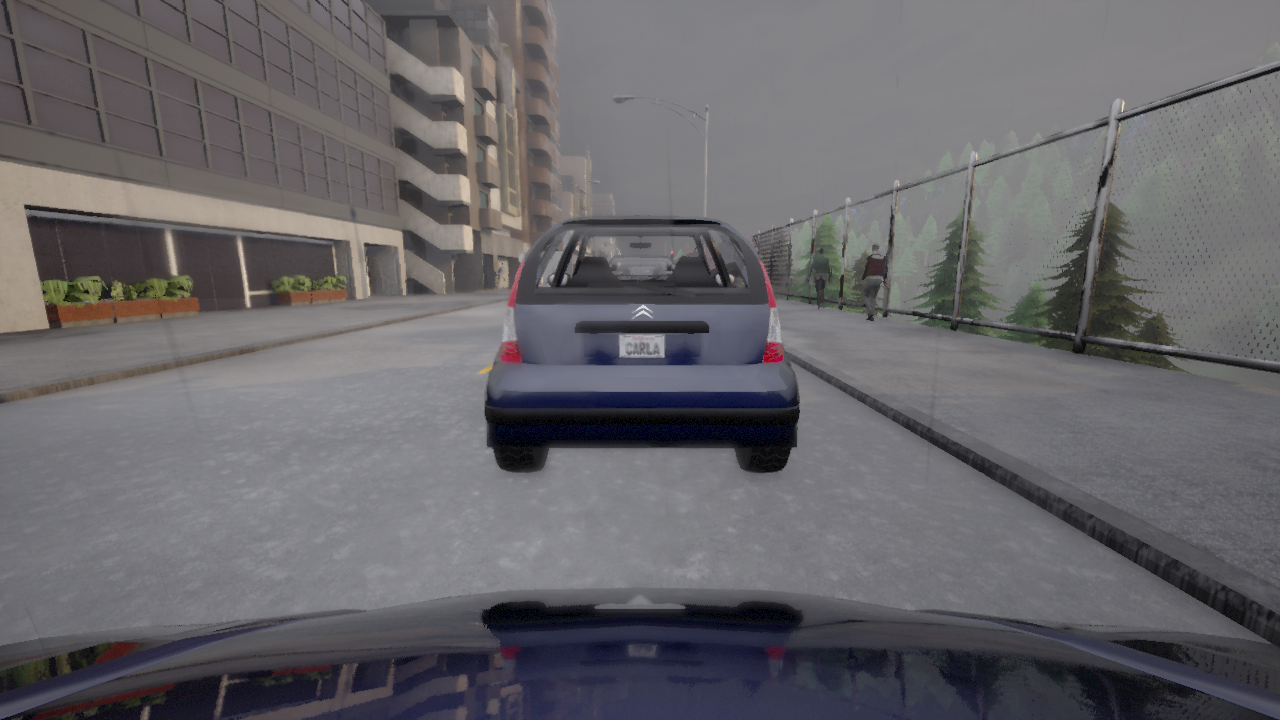cyclist: (0, 588, 1279, 719), (484, 216, 799, 472), (743, 234, 761, 260)
pedestrian: (859, 242, 888, 321), (807, 248, 831, 310), (498, 262, 507, 290)
